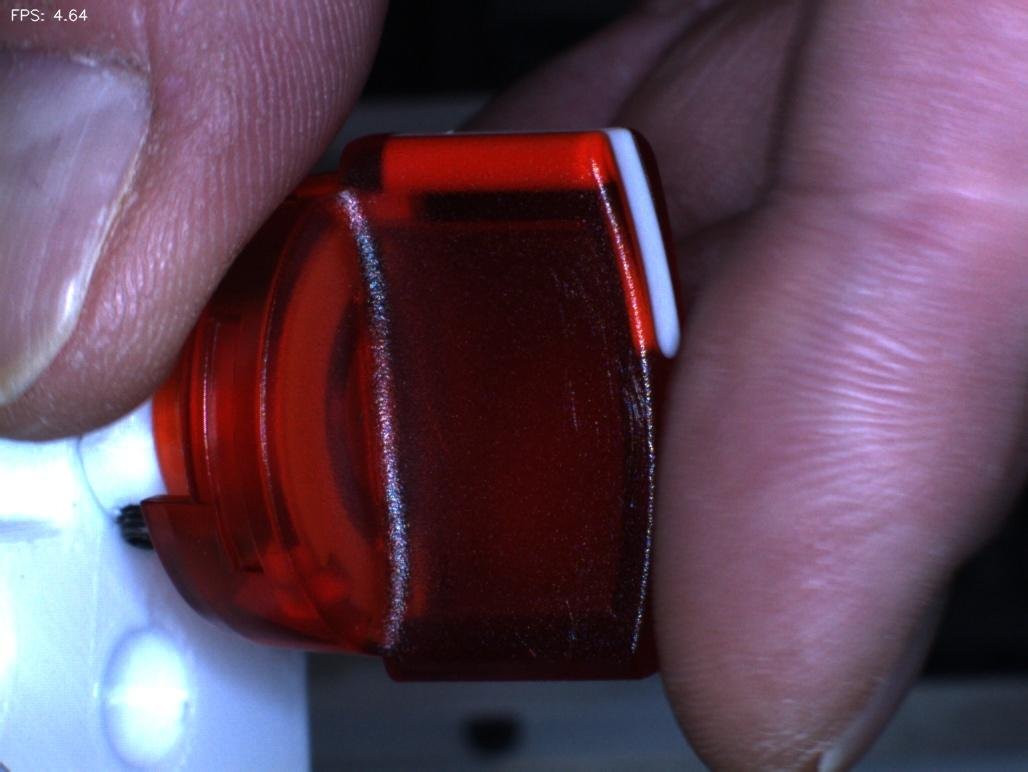Givrage: (548, 280, 648, 524)
